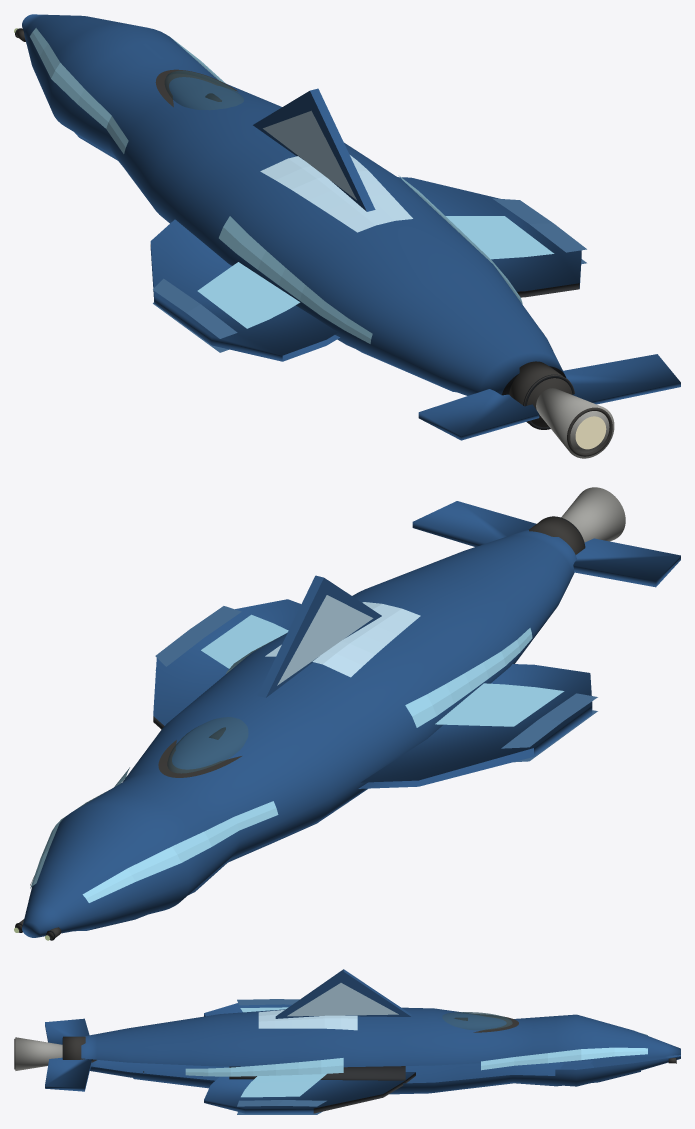
The model's file is Ship_Orca_486148.glb.
3 renders of one model, top to bottom at view 1: azimuth 30°, elevation 25°; view 2: azimuth 150°, elevation 25°; view 3: azimuth 270°, elevation 25°, orthographic. The views are drawn at different scales.
Visible parts, largest first — view 1: Fuselage_OrcaCountershadedHull, PectoralFin_Left_AerofoilWingFin, PectoralFin_Right_AerofoilWingFin, PaintSaddlePatch_DorsalSweptBackMark, TailFluke_Right_SweptAftStabilizer, TailFluke_Left_SweptAftStabilizer, PectoralFinPaint_Left_BroadSimplePanelTop, PaintFlankSweep_Left_SingleBroadBlade, DorsalFin_MainSweptKeel, PectoralFinPaint_Right_BroadSimplePanelTop, DorsalFinTrimPatch_LeftFace, EngineBell_MainLargeBurnishedNozzle (+7 smaller); view 2: Fuselage_OrcaCountershadedHull, PectoralFin_Left_AerofoilWingFin, PectoralFin_Right_AerofoilWingFin, PectoralFinPaint_Left_BroadSimplePanelTop, PaintEyePatch_Left_ForwardWhiteComma, TailFluke_Left_SweptAftStabilizer, TailFluke_Right_SweptAftStabilizer, PaintSaddlePatch_DorsalSweptBackMark, CanopyGlass_LowInsetDome, DorsalFin_MainSweptKeel, DorsalFinTrimPatch_LeftFace, PaintFlankSweep_Left_SingleBroadBlade (+7 smaller); view 3: Fuselage_OrcaCountershadedHull, PectoralFin_Right_AerofoilWingFin, DorsalFinTrimPatch_RightFace, PaintFlankSweep_Right_SingleBroadBlade, PaintEyePatch_Right_ForwardWhiteComma, DorsalFin_MainSweptKeel, PectoralFinPaint_Right_BroadSimplePanelTop, PaintSaddlePatch_DorsalSweptBackMark, TailFluke_Right_SweptAftStabilizer, EngineBell_MainLargeBurnishedNozzle, PectoralFinRoot_Right_BlendedShoulder, CanopyGlass_LowInsetDome (+7 smaller).
Part boxes in pixels (x1,y1,x2,y2): Fuselage_OrcaCountershadedHull: (22, 14, 566, 395); PectoralFin_Left_AerofoilWingFin: (150, 219, 339, 361); PectoralFin_Right_AerofoilWingFin: (398, 177, 581, 297); PaintSaddlePatch_DorsalSweptBackMark: (260, 155, 412, 232); TailFluke_Right_SweptAftStabilizer: (563, 354, 680, 404); TailFluke_Left_SweptAftStabilizer: (418, 389, 539, 440); PectoralFinPaint_Left_BroadSimplePanelTop: (197, 262, 300, 328); PaintFlankSweep_Left_SingleBroadBlade: (219, 216, 372, 343); DorsalFin_MainSweptKeel: (253, 88, 375, 211); PectoralFinPaint_Right_BroadSimplePanelTop: (446, 216, 554, 259); DorsalFinTrimPatch_LeftFace: (263, 110, 356, 200); EngineBell_MainLargeBurnishedNozzle: (536, 388, 614, 458); Fuselage_OrcaCountershadedHull: (22, 530, 576, 937); PectoralFin_Left_AerofoilWingFin: (358, 664, 592, 788); PectoralFin_Right_AerofoilWingFin: (153, 599, 301, 729); PectoralFinPaint_Left_BroadSimplePanelTop: (435, 683, 564, 726); PaintEyePatch_Left_ForwardWhiteComma: (82, 801, 278, 902); TailFluke_Left_SweptAftStabilizer: (573, 538, 680, 587); TailFluke_Right_SweptAftStabilizer: (412, 501, 536, 546); PaintSaddlePatch_DorsalSweptBackMark: (265, 602, 420, 677); CanopyGlass_LowInsetDome: (167, 717, 248, 773); DorsalFin_MainSweptKeel: (257, 575, 381, 697); DorsalFinTrimPatch_LeftFace: (277, 595, 373, 685); PaintFlankSweep_Left_SingleBroadBlade: (405, 628, 532, 727); Fuselage_OrcaCountershadedHull: (81, 1007, 680, 1093); PectoralFin_Right_AerofoilWingFin: (204, 1072, 415, 1113); DorsalFinTrimPatch_RightFace: (287, 983, 398, 1016); PaintFlankSweep_Right_SingleBroadBlade: (185, 1058, 343, 1076); PaintEyePatch_Right_ForwardWhiteComma: (481, 1047, 647, 1070); DorsalFin_MainSweptKeel: (275, 969, 411, 1018); PectoralFinPaint_Right_BroadSimplePanelTop: (241, 1074, 326, 1097); PaintSaddlePatch_DorsalSweptBackMark: (258, 1010, 357, 1030); TailFluke_Right_SweptAftStabilizer: (45, 1057, 96, 1091); EngineBell_MainLargeBurnishedNozzle: (15, 1037, 62, 1070); PectoralFinRoot_Right_BlendedShoulder: (229, 1066, 405, 1082); CanopyGlass_LowInsetDome: (442, 1012, 512, 1030).
Size of the model in its own units: 3.37 by 1.66 by 8.84.
